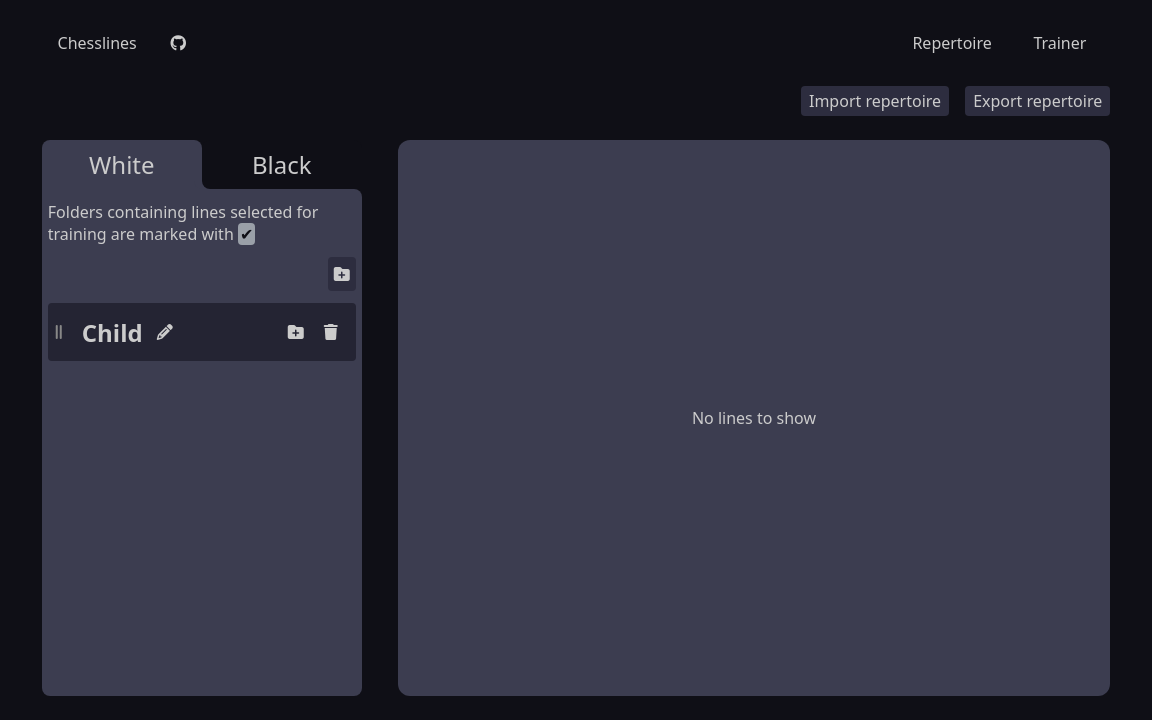
Scenario: New folder button › Removes new folder button when new folder button clicked and form appears
The image size is (1152, 720).
Click the button named "new folder" at (296, 332), box [282,315,310,349]
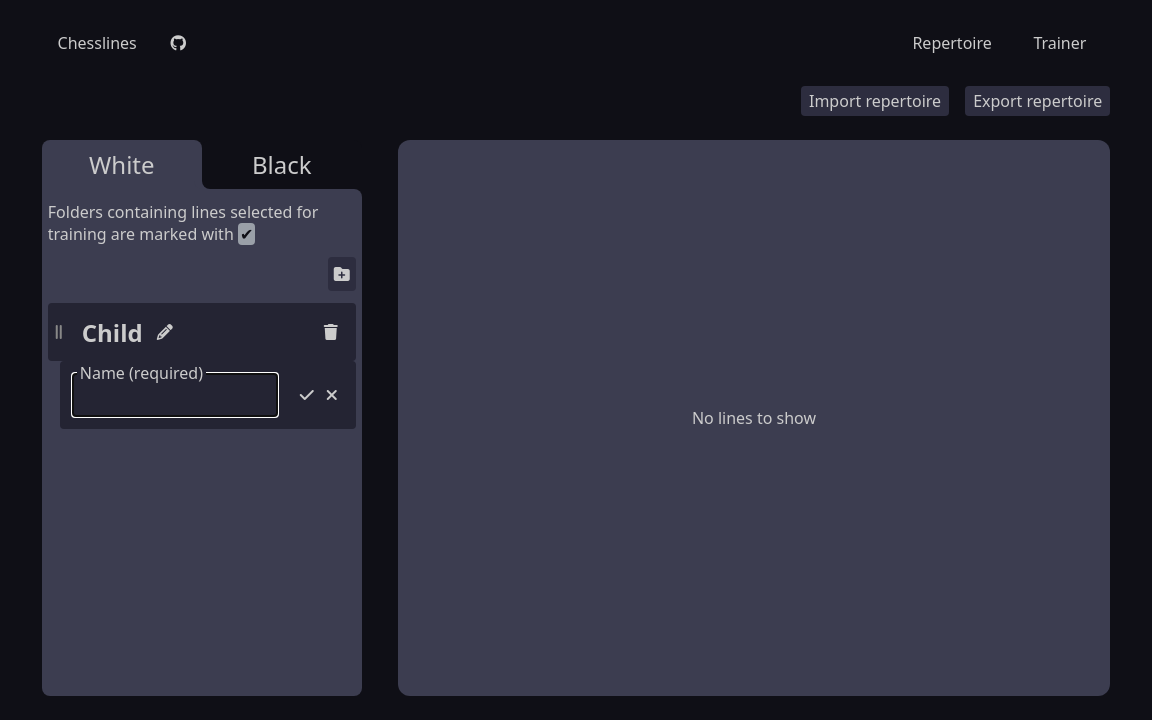
Now the form named "new folder" is shown, box [72,373,344,417]
Now the field labelled "Name (required)" is shown, box [72,373,278,417]
